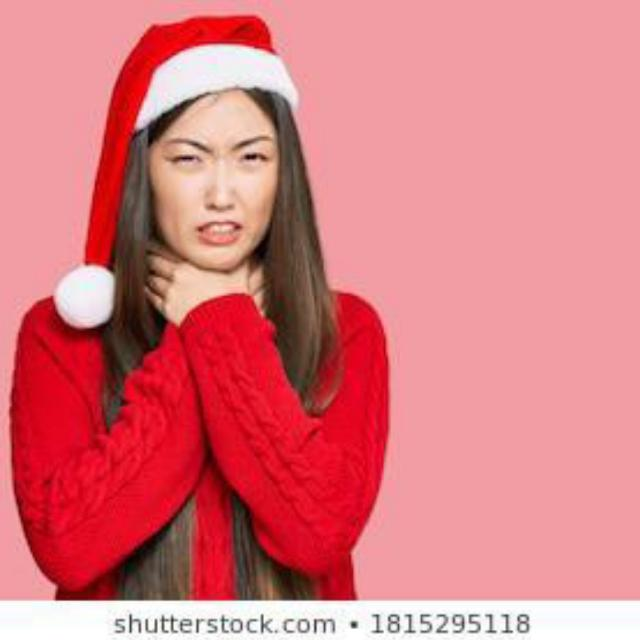Angry: (78, 56, 298, 307)
